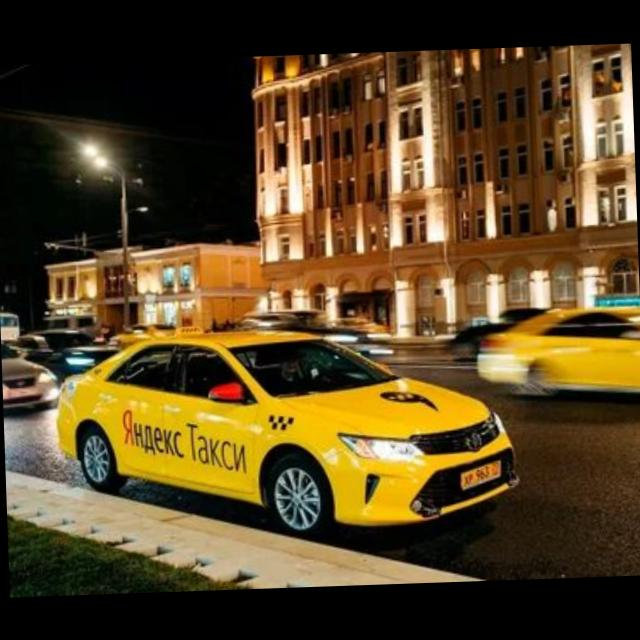taxi: (52, 314, 522, 548), (475, 303, 640, 408)
